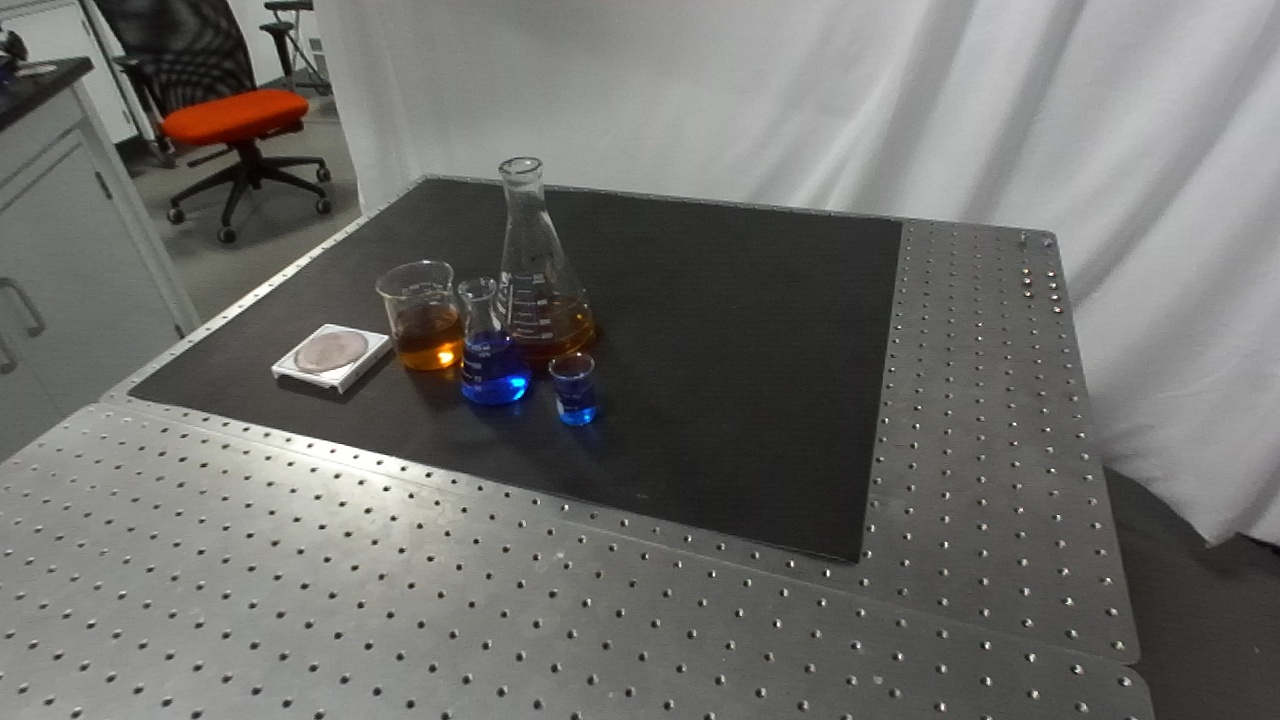glass: (467, 149, 598, 364), (449, 277, 532, 410), (375, 259, 468, 372), (547, 349, 598, 429)
plate: (267, 317, 391, 401)
